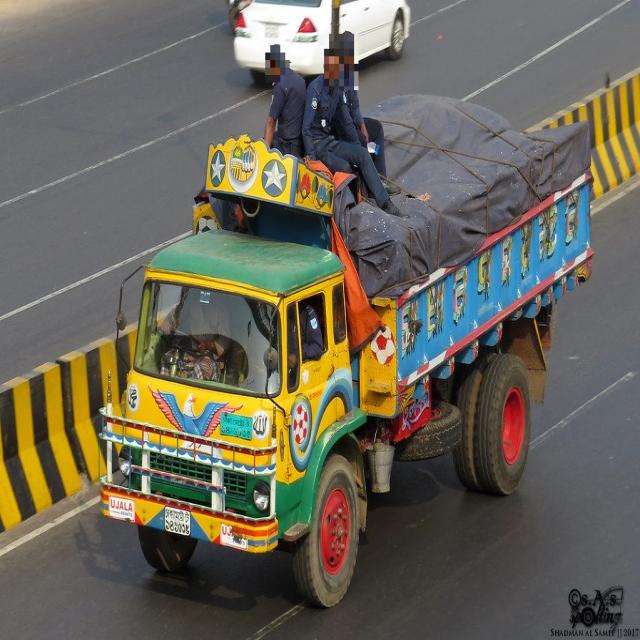car: (234, 0, 414, 84)
truck: (81, 96, 610, 597)
